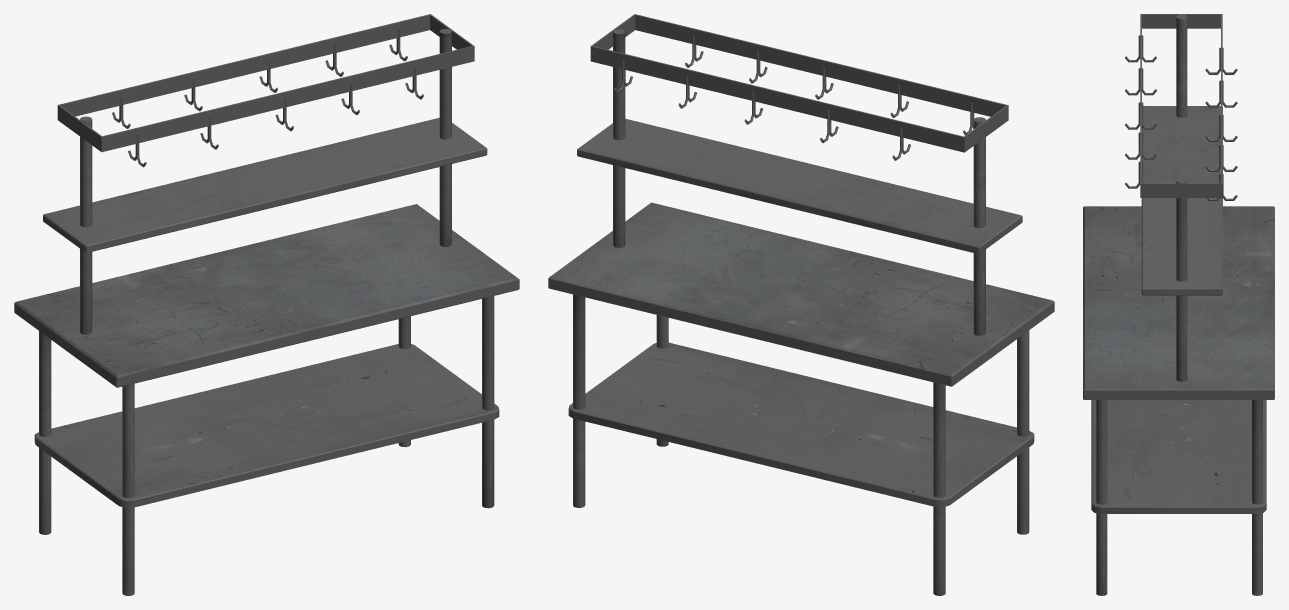
File: worktable-3.FBX
3 renders of one model, left to right at view 1: azimuth 30°, elevation 25°; view 2: azimuth 150°, elevation 25°; view 3: azimuth 270°, elevation 25°, orthographic. The views are drawn at different scales.
Visible parts, largest first — view 1: Loft01; view 2: Loft01; view 3: Loft01.
Boxes of the visible parts, box(x1,y1,x2,y2) form: Loft01: box(14, 14, 519, 595); Loft01: box(548, 14, 1054, 595); Loft01: box(1083, 14, 1274, 595).
Bounding box in the file's own units: 68.4 × 71.75 × 30.17.
